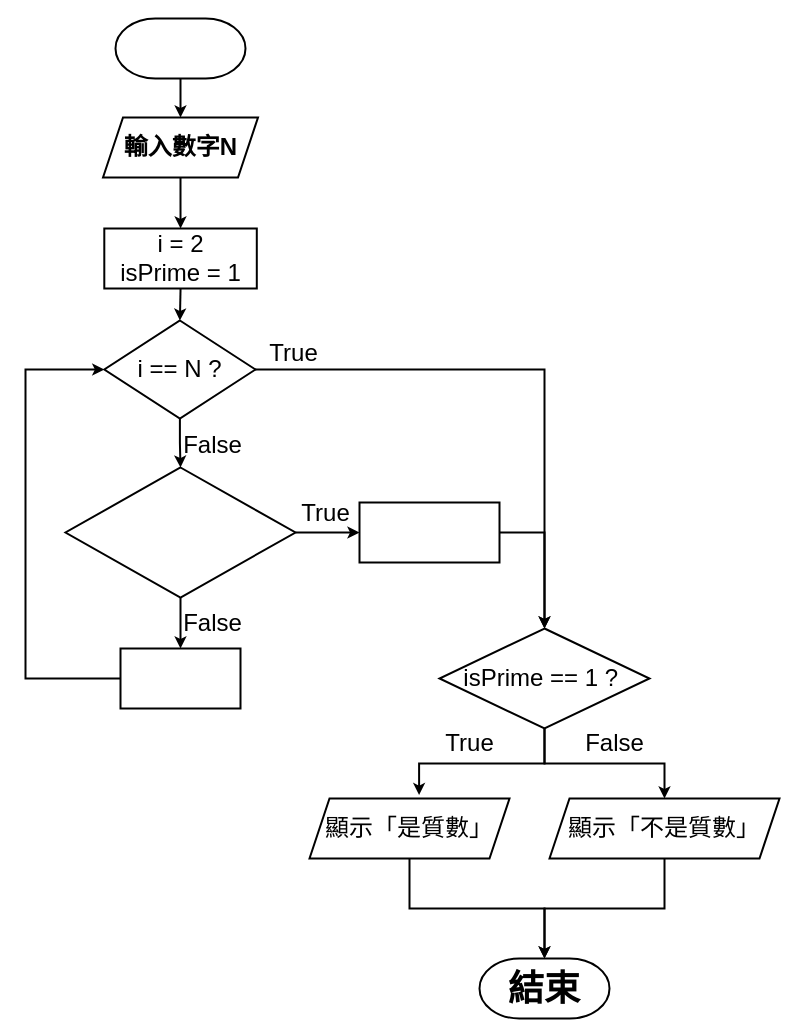
The diagram is 797 pixels wide and 1036 high, and some of its shapes have lost their labels. Here are the shapes that lost their labels. From the top down, the box of each, then its label:
(114, 17, 246, 79): 開始
(64, 466, 296, 598): N ÷ i 的餘數==0 ?
(358, 501, 500, 563): isPrime = 0
(119, 647, 241, 709): i = i + 1
